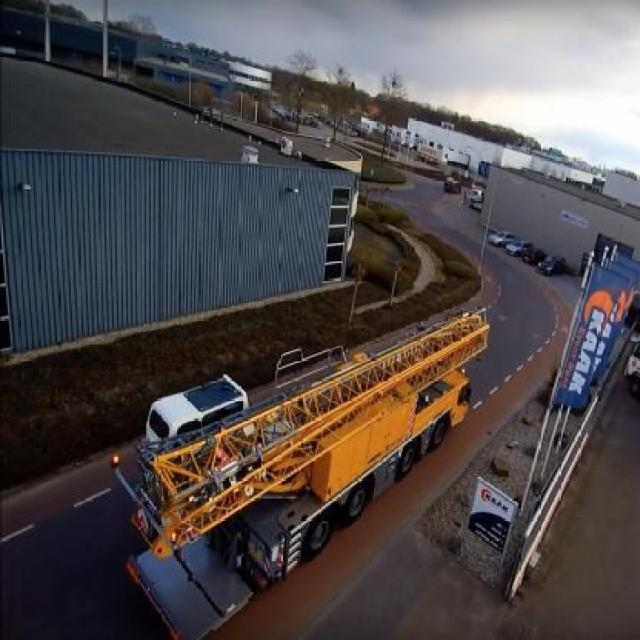Mobile Crane: (114, 312, 489, 639)
